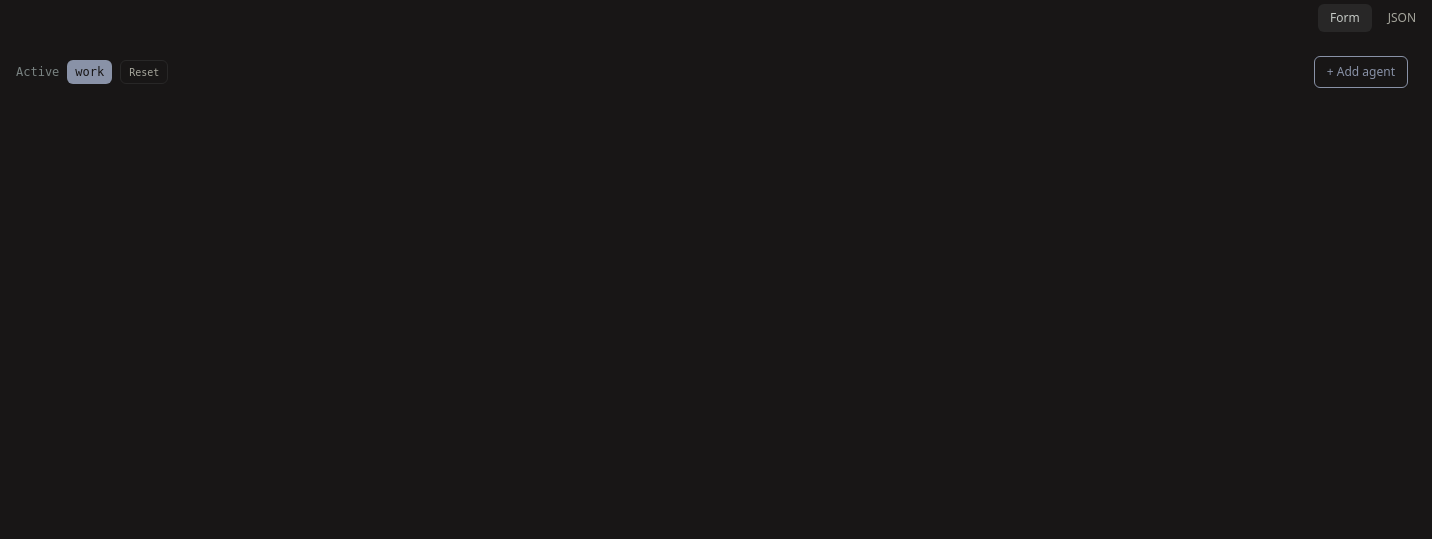
it: PabrikConfigEditor — workspace scope › tells the user that only the workspace-scoped settings are stored here
Click the button with test id "mode-json". click: (1402, 18)
box: x1=1376 y1=4 x2=1428 y2=32
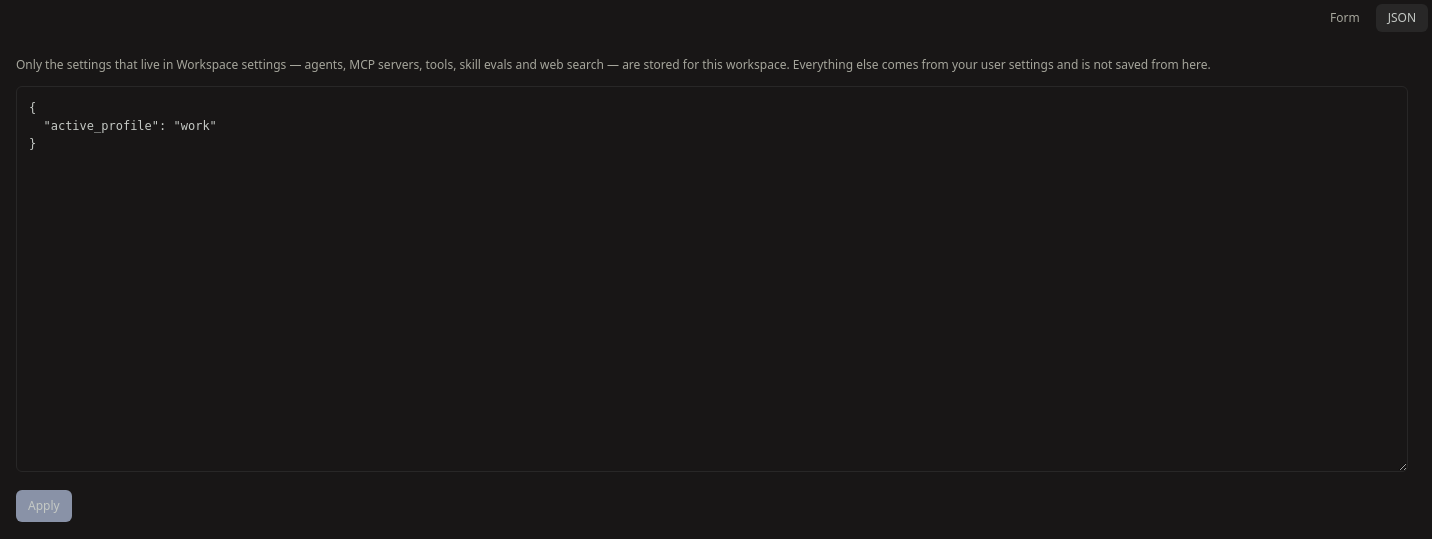
Now the element with test id "config-json-panel" shows "Only the settings that live in Workspace settings", box x1=16 y1=56 x2=1211 y2=73
